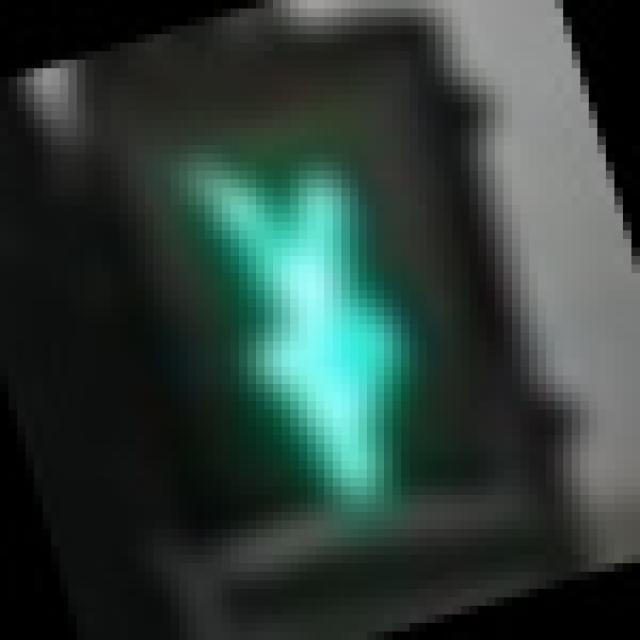green_light: (85, 59, 529, 564)
